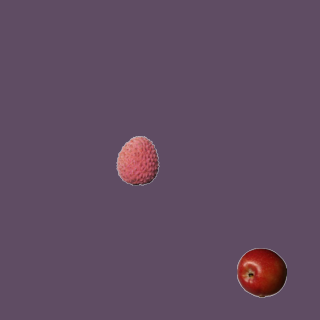Apple Braeburn: (236, 247, 286, 297)
Lychee: (112, 135, 162, 185)
